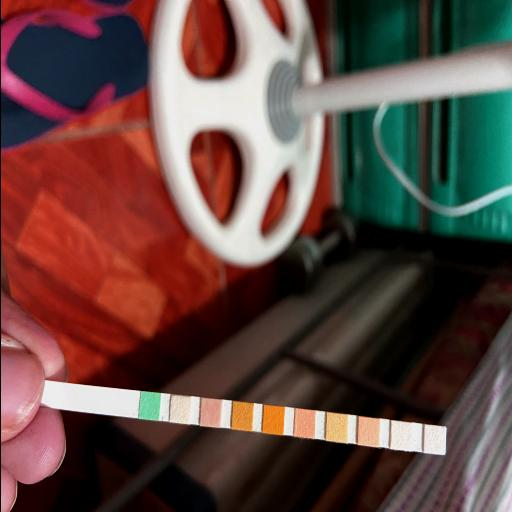Bilirubin: (170, 396, 188, 422)
Blood: (262, 407, 282, 433)
Glucose: (140, 393, 158, 419)
Ketone: (200, 400, 220, 426)
Leukocytes: (424, 426, 444, 453)
Nitrite: (390, 423, 410, 449)
Protein: (327, 414, 346, 440)
SpGravity: (232, 403, 251, 429)
Urobilinogen: (358, 419, 378, 445)
pH: (294, 410, 314, 436)
strip: (44, 380, 446, 455)
